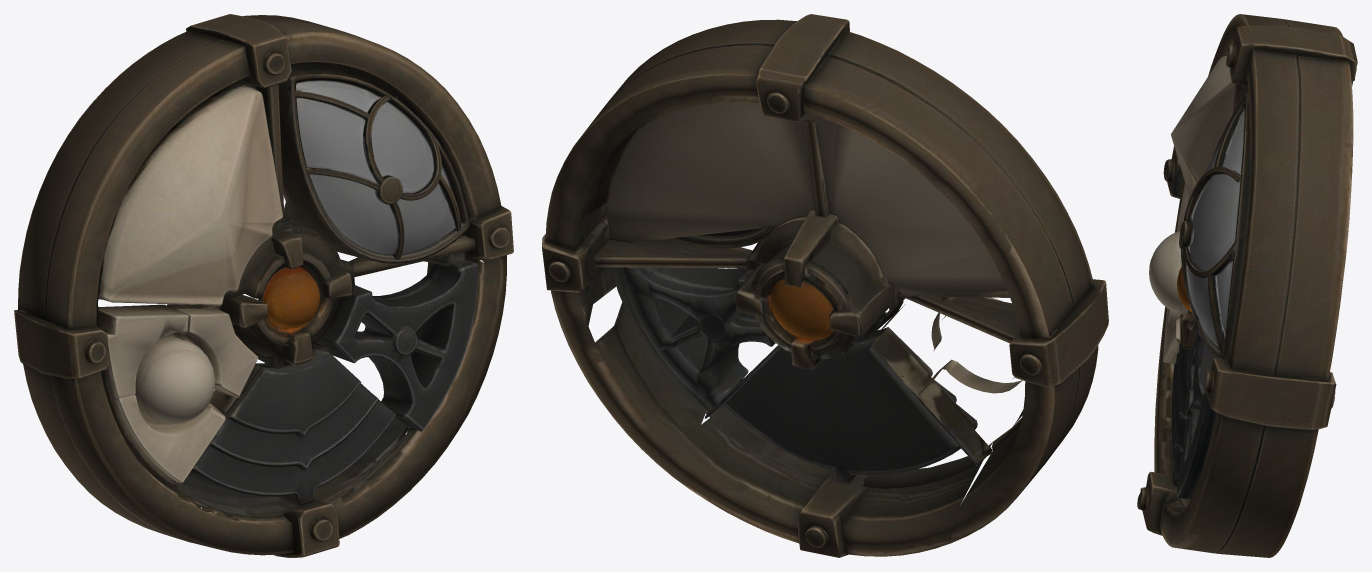
The model's file is named-parts-astrolabe.glb.
The picture shows the model from 3 angles, left to right: view 1: azimuth 30°, elevation 25°; view 2: azimuth 150°, elevation 25°; view 3: azimuth 270°, elevation 25°; orthographic projection. The views are drawn at different scales.
Parts seen in each view (by area): view 1: tripo_08f76e46_21ab_4f0d_b072_65d371361a10; view 2: tripo_08f76e46_21ab_4f0d_b072_65d371361a10; view 3: tripo_08f76e46_21ab_4f0d_b072_65d371361a10.
Boxes of the visible parts, x1,y1,x2,y2 form: tripo_08f76e46_21ab_4f0d_b072_65d371361a10: [14, 14, 513, 557]; tripo_08f76e46_21ab_4f0d_b072_65d371361a10: [542, 14, 1108, 557]; tripo_08f76e46_21ab_4f0d_b072_65d371361a10: [1137, 14, 1357, 557].
Bounding box in the file's own units: 0.9927 × 0.9995 × 0.3979.
1 material, 1 textured.
